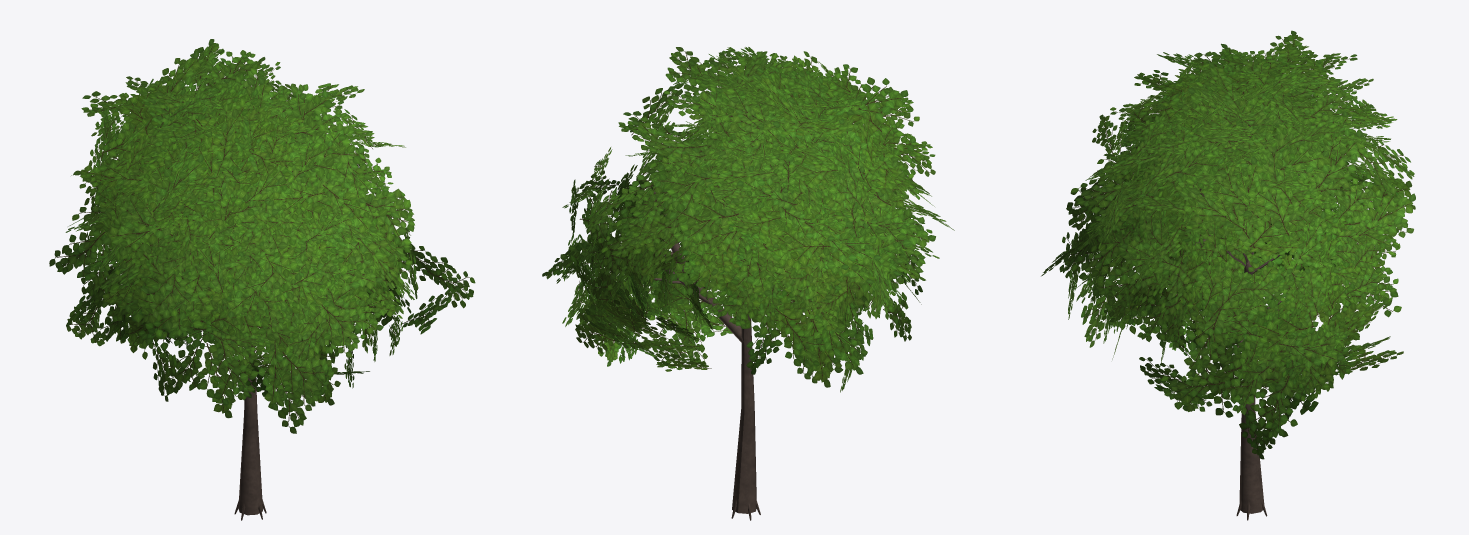
The model's file is tree_small.glb.
The picture shows the model from 3 angles, left to right: view 1: azimuth 30°, elevation 25°; view 2: azimuth 150°, elevation 25°; view 3: azimuth 270°, elevation 25°; orthographic projection. The views are drawn at different scales.
Visible parts, largest first — view 1: tree_small; view 2: tree_small; view 3: tree_small.
Boxes of the visible parts, left/top/right/bottom form: tree_small: left=49, top=39, right=475, bottom=520; tree_small: left=542, top=47, right=954, bottom=520; tree_small: left=1041, top=30, right=1415, bottom=520.
Size of the model in its own units: 4.43 by 4.83 by 4.13.
Materials: 2 (2 with a texture image).
